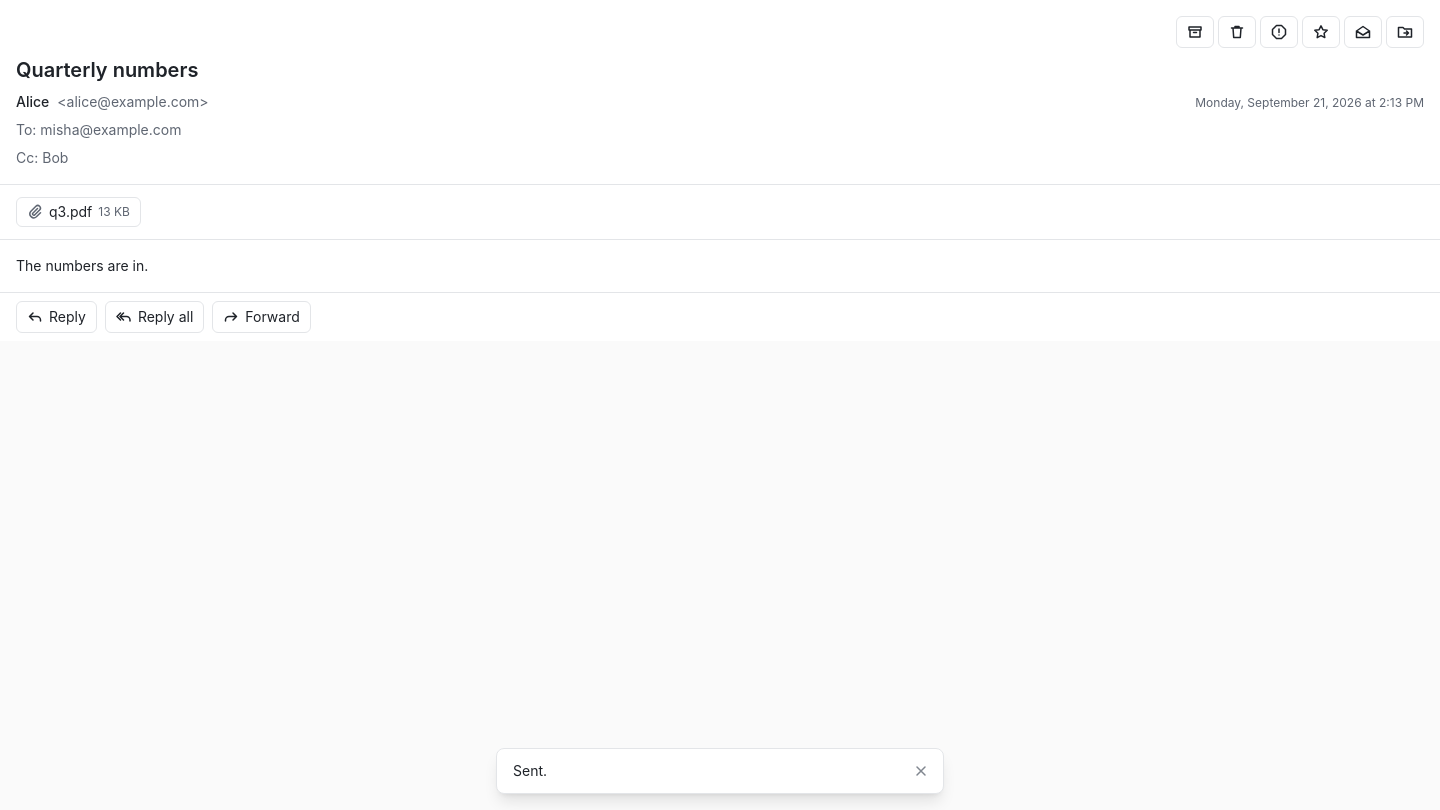
drafts › closes, saying so, when the mail server takes it later
Click the button "Reply" at {"x": 56, "y": 317}, box [16, 301, 97, 333]
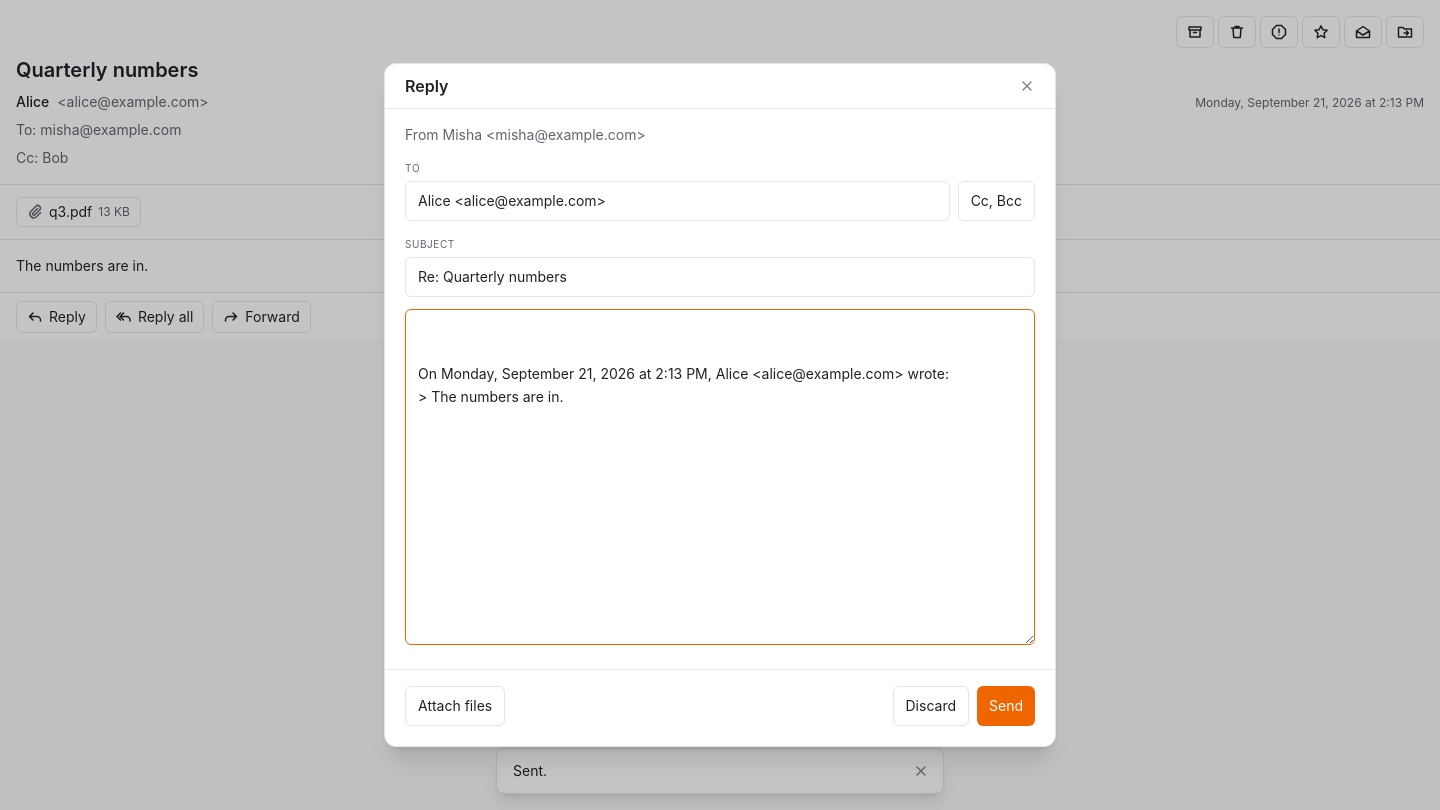
Replace the text in the text box named "Message" with "Thanks!" at {"x": 720, "y": 477}, box [405, 309, 1035, 645]
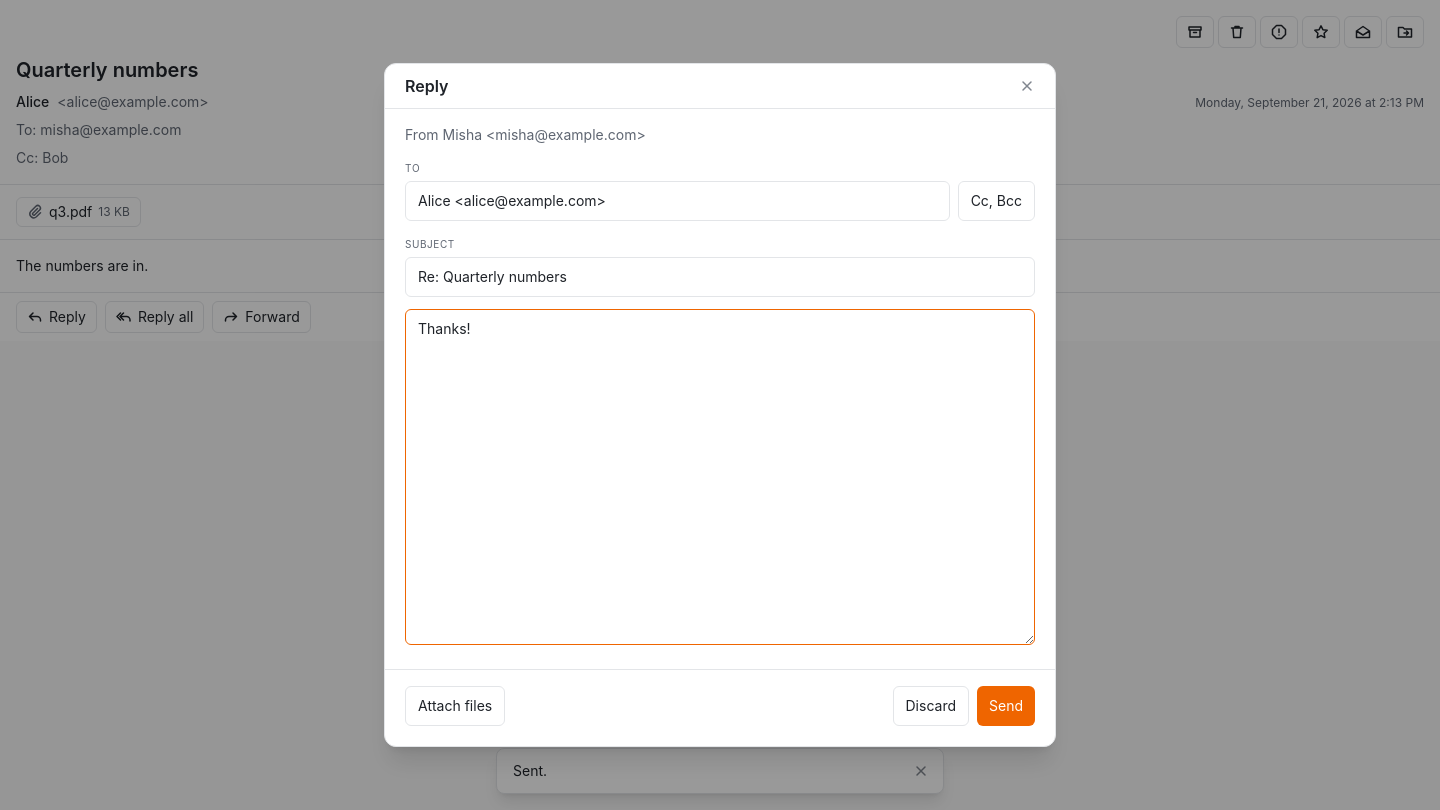
Click the button named "Close" at {"x": 1027, "y": 86}, box [1015, 74, 1039, 98]
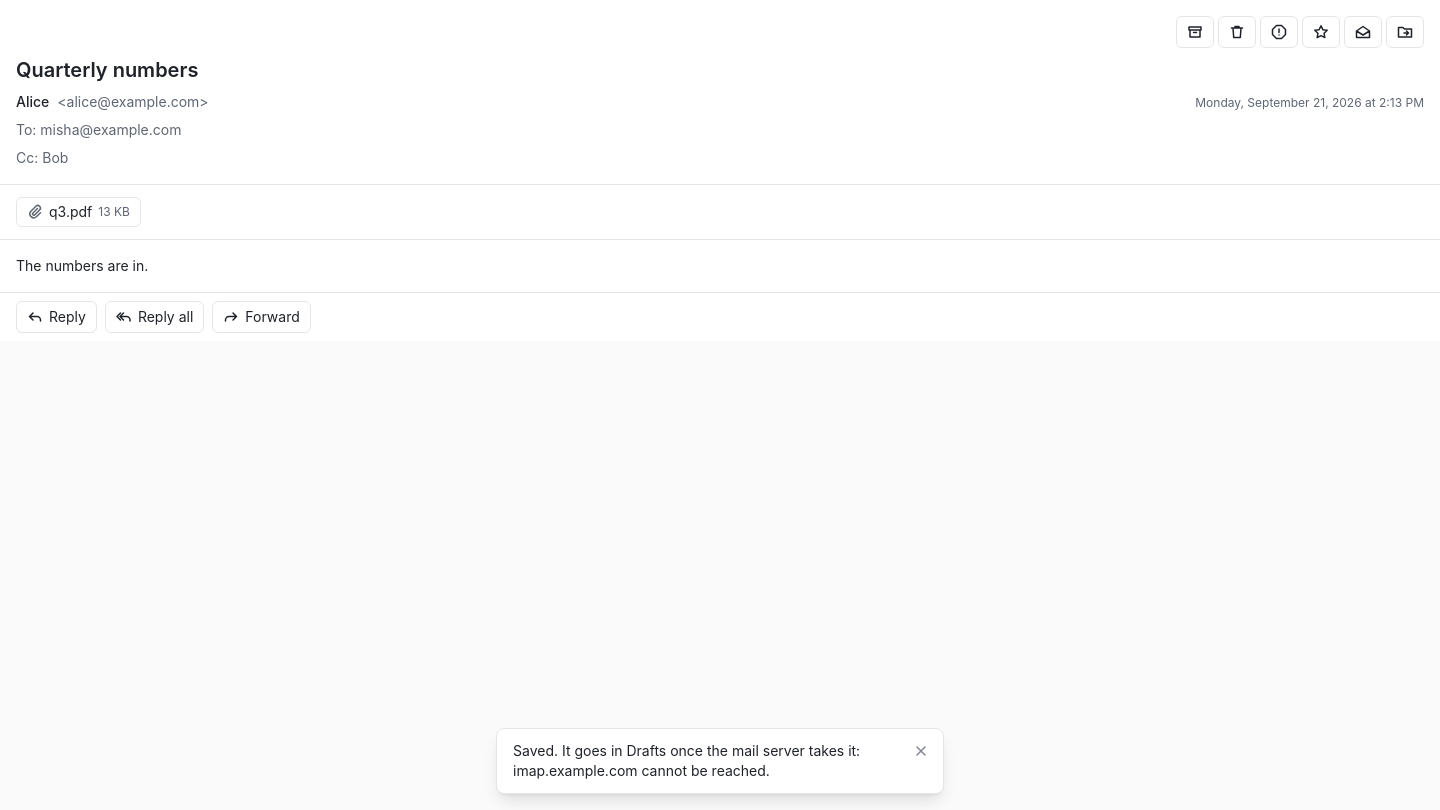
Result: the dialog is gone
Result: the text "Saved. It goes in Drafts once the mail server takes it: imap.example.com cannot be reached." is shown at [513, 742, 860, 779]
